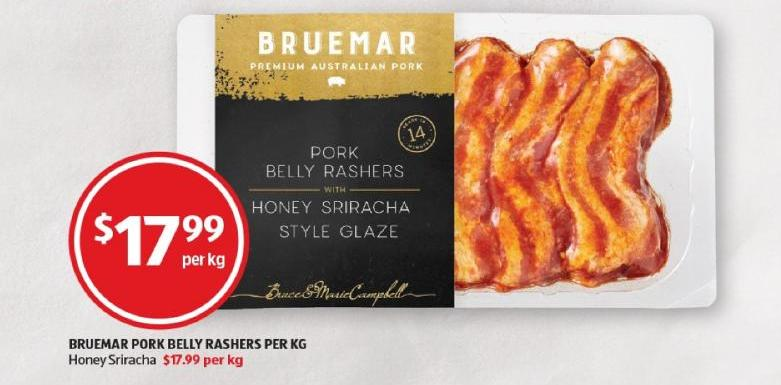description_block: (60, 332, 308, 368)
price_main: (50, 142, 254, 331)
product_image_block: (182, 16, 725, 324)
unit_price_block: (161, 350, 247, 371)
